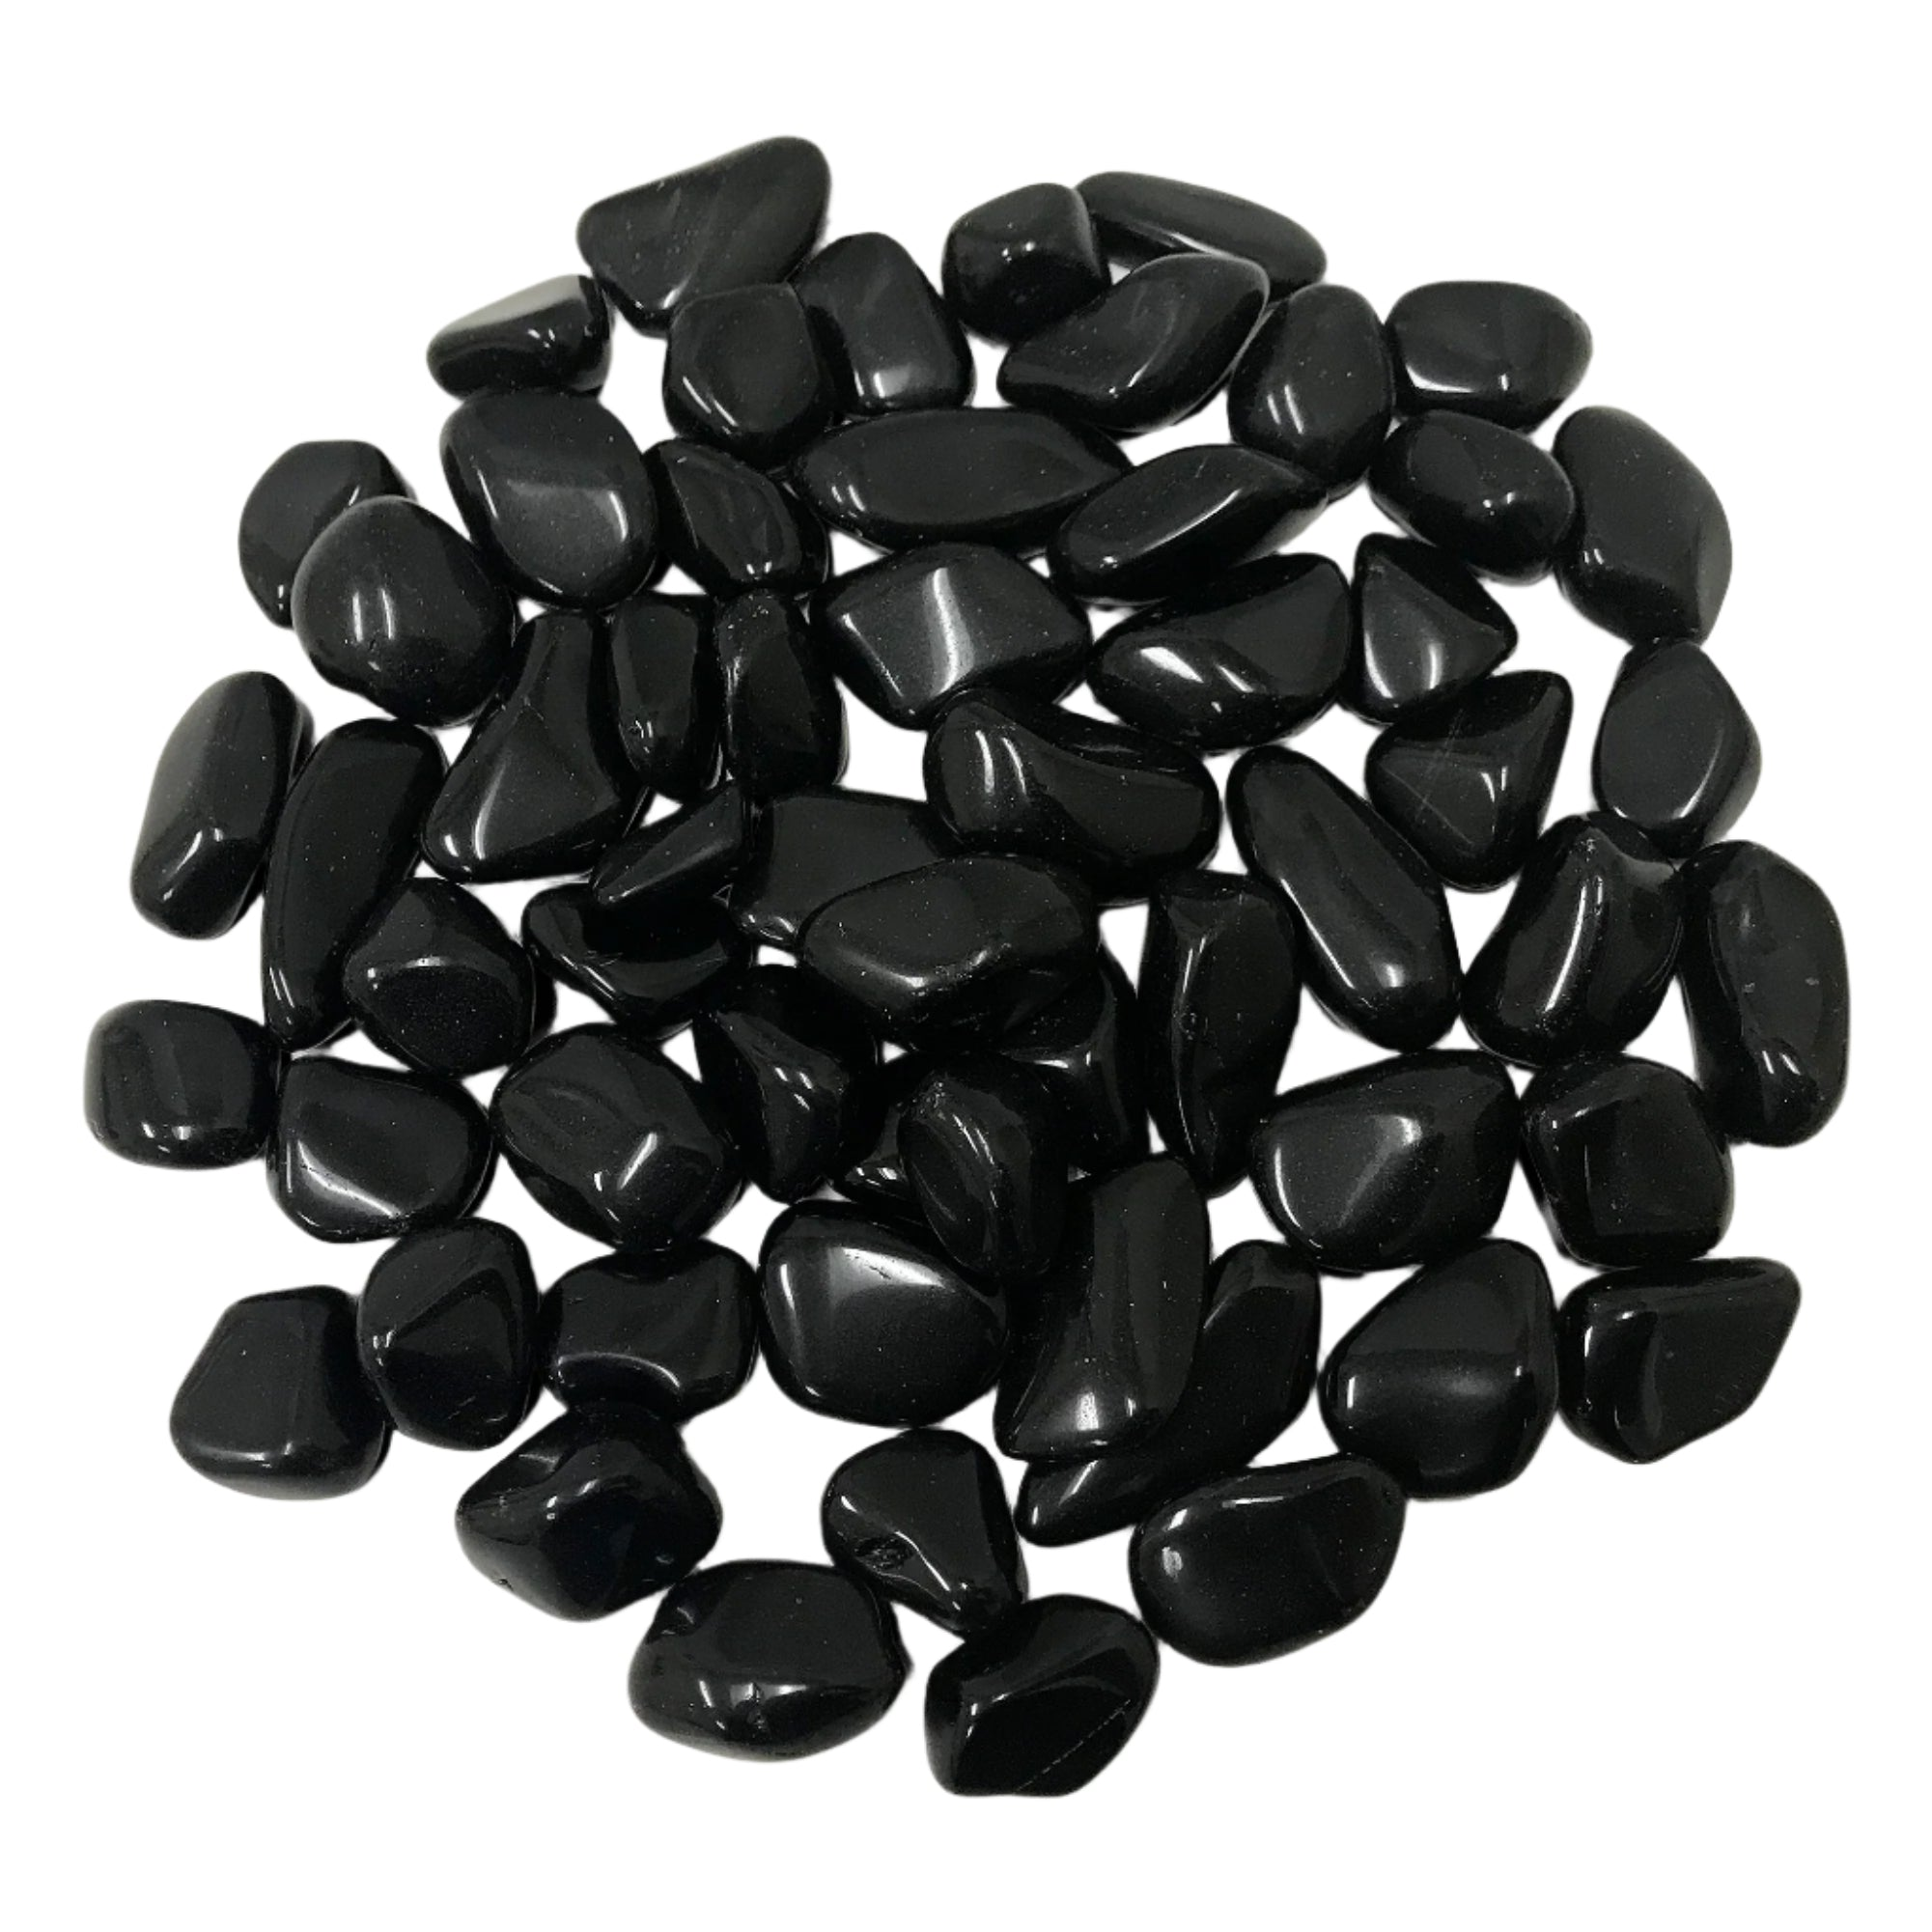Obsidian: (87, 134, 1858, 1796), (959, 129, 978, 163)
